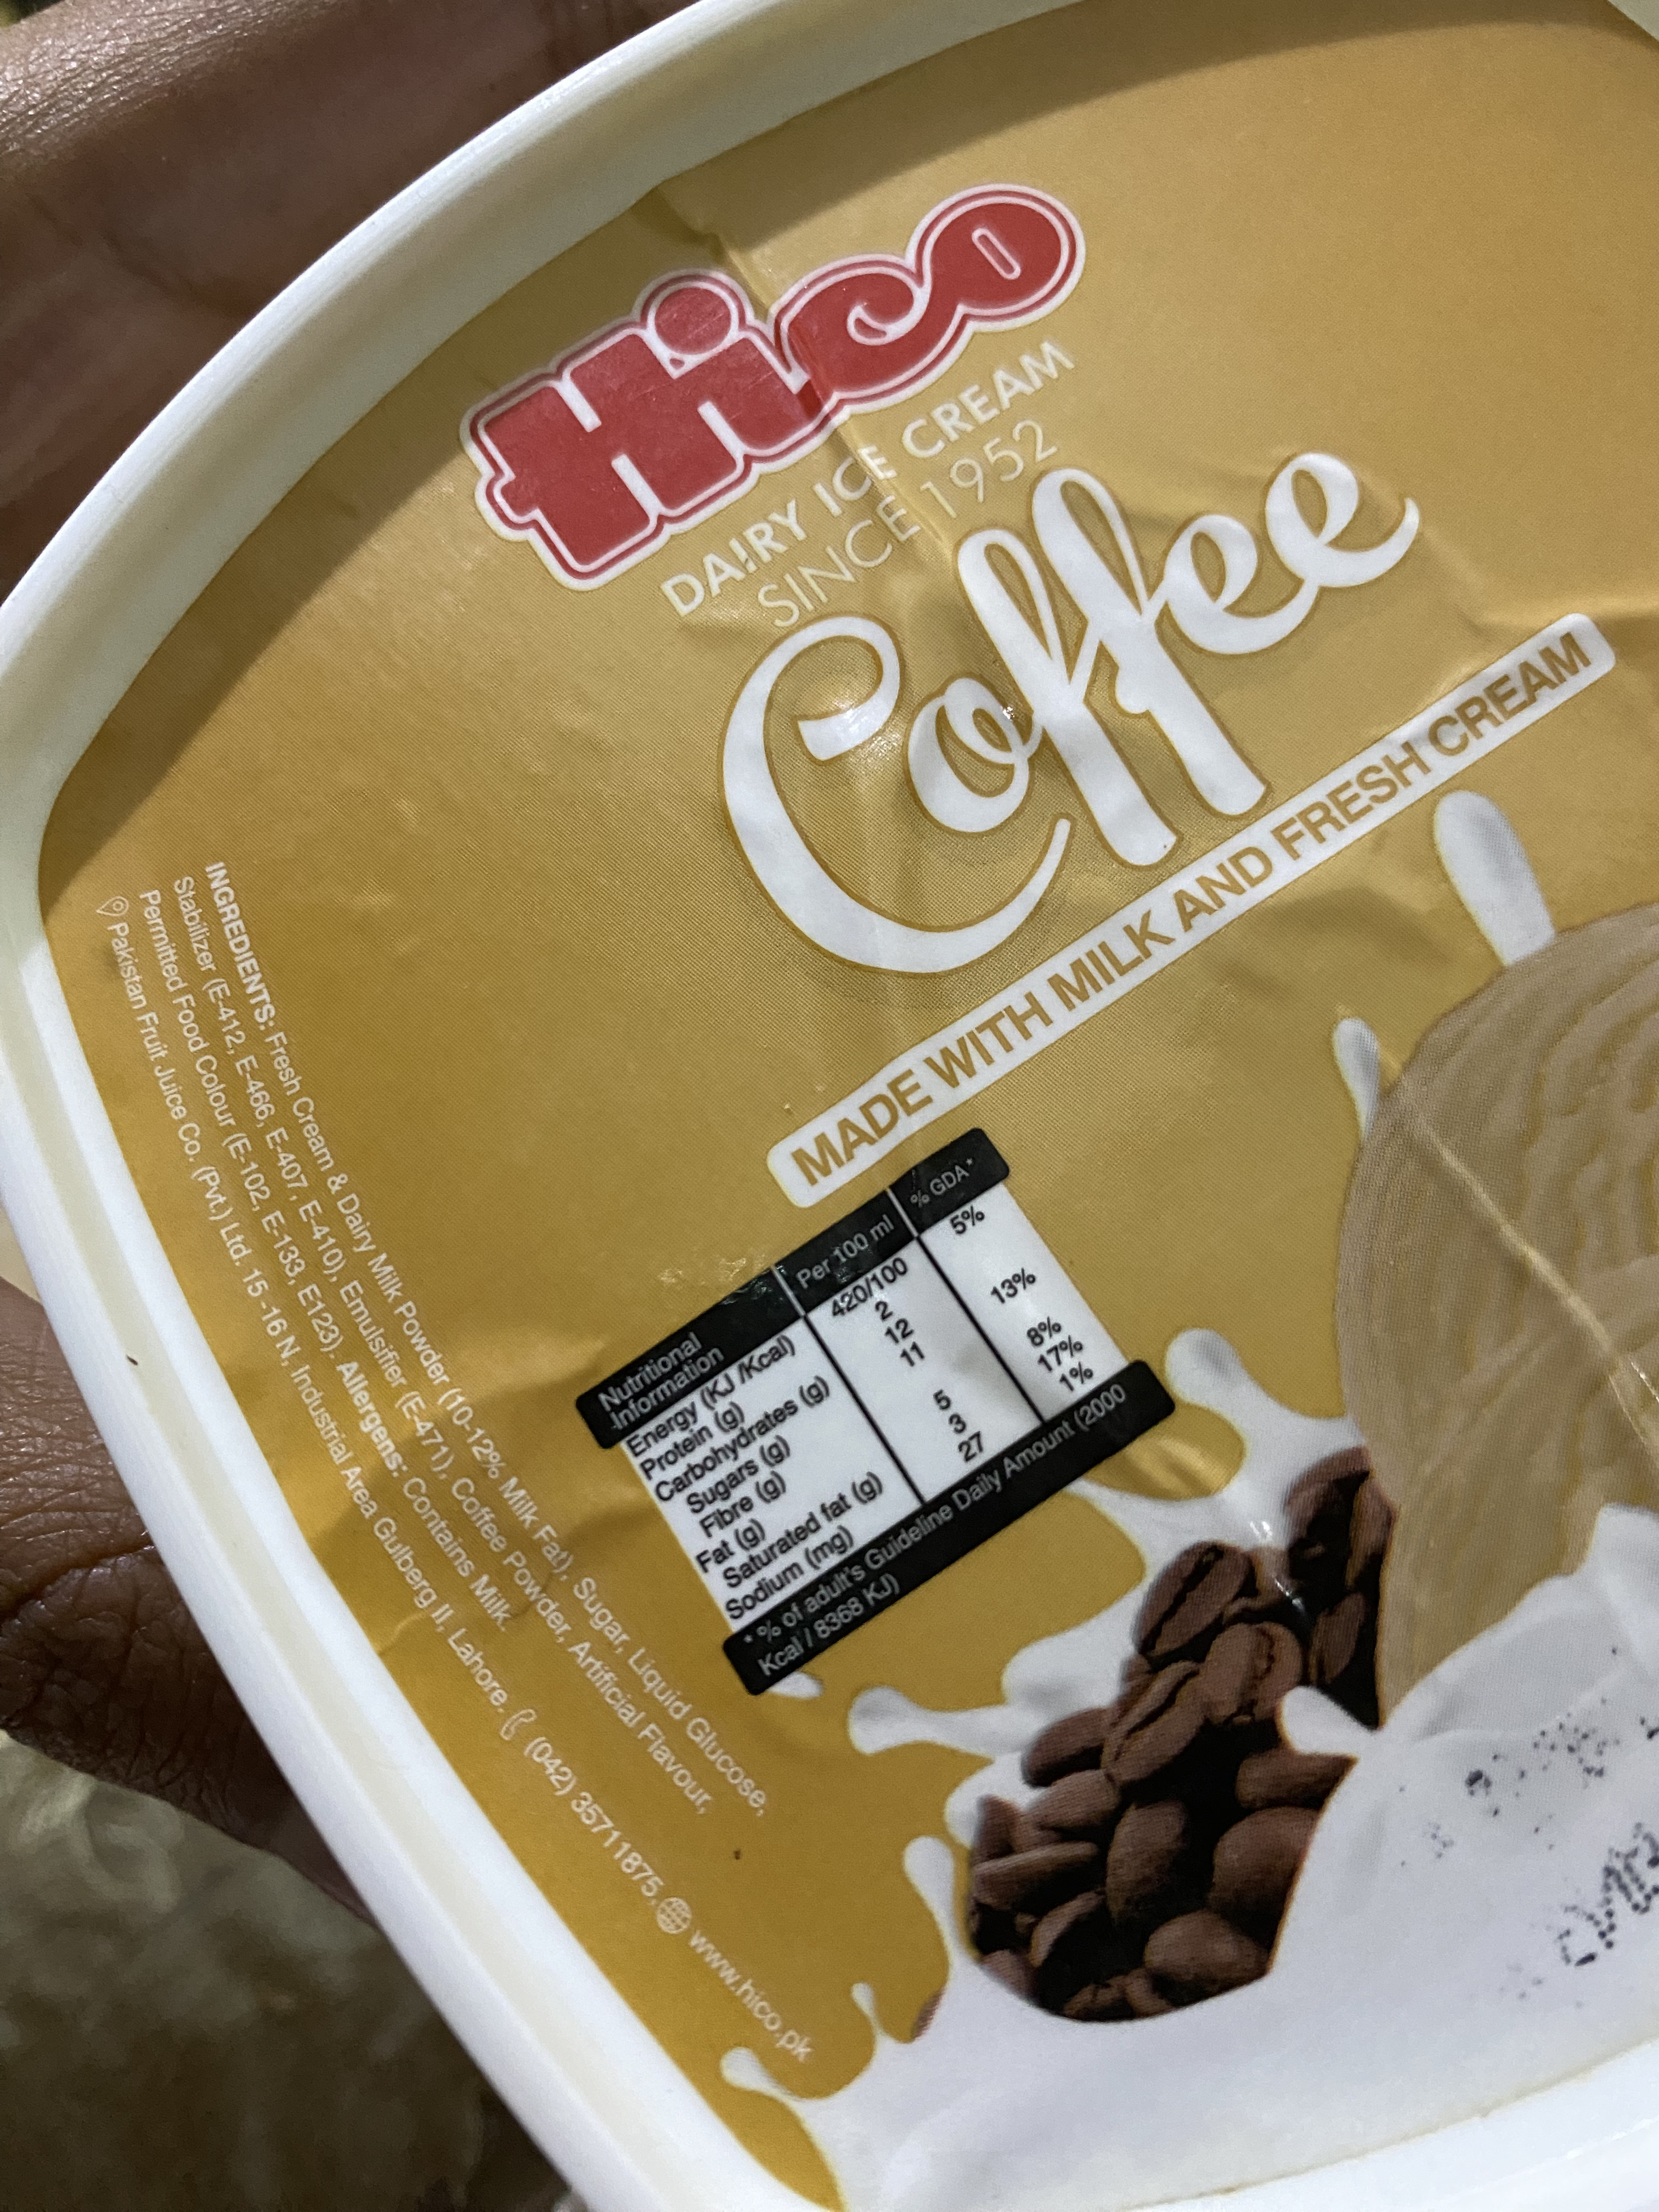table: (573, 1118, 1190, 1700)
